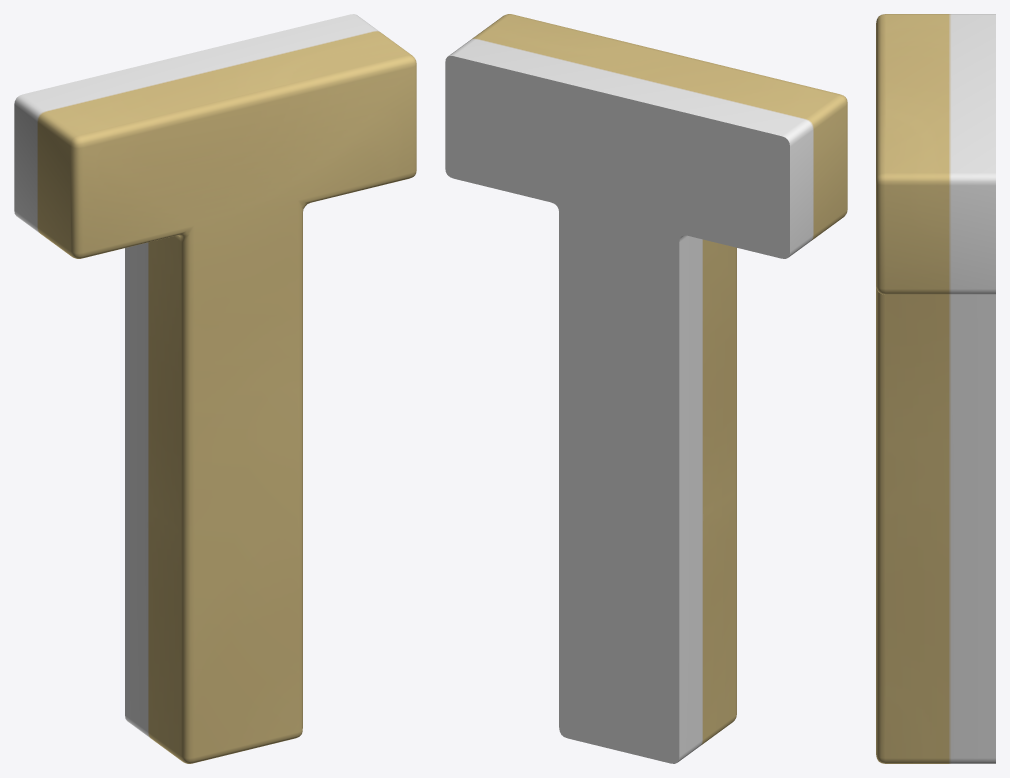
The model's file is LettersLightUp01_T.FBX.
3 views of the same model, side by side, from view 1: azimuth 30°, elevation 25°; view 2: azimuth 150°, elevation 25°; view 3: azimuth 270°, elevation 25° (orthographic).
Visible parts, largest first — view 1: LettersLightUp01_T; view 2: LettersLightUp01_T; view 3: LettersLightUp01_T.
Boxes of the visible parts, box(x1,y1,x2,y2) form: LettersLightUp01_T: box(14, 14, 416, 763); LettersLightUp01_T: box(445, 14, 847, 763); LettersLightUp01_T: box(876, 14, 995, 763).
Size of what is drawn, in the model's own units: 0.3309 by 0.6001 by 0.1012.
